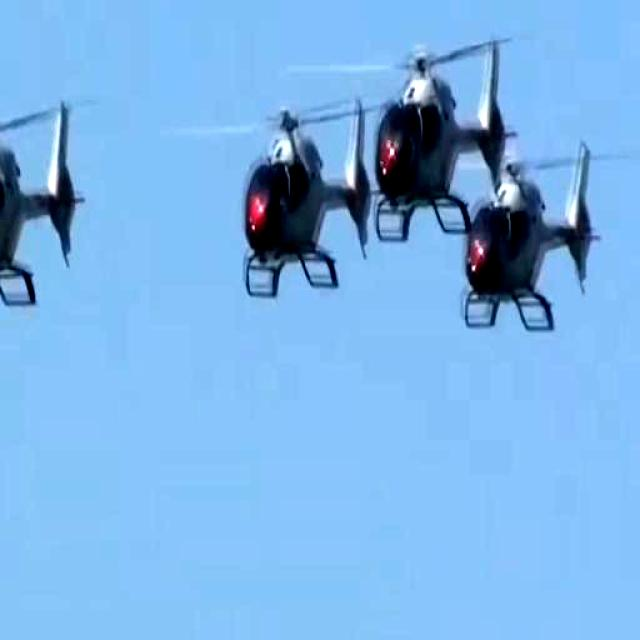drone: (229, 95, 391, 315), (356, 28, 514, 208), (461, 125, 602, 318), (0, 75, 96, 341)
